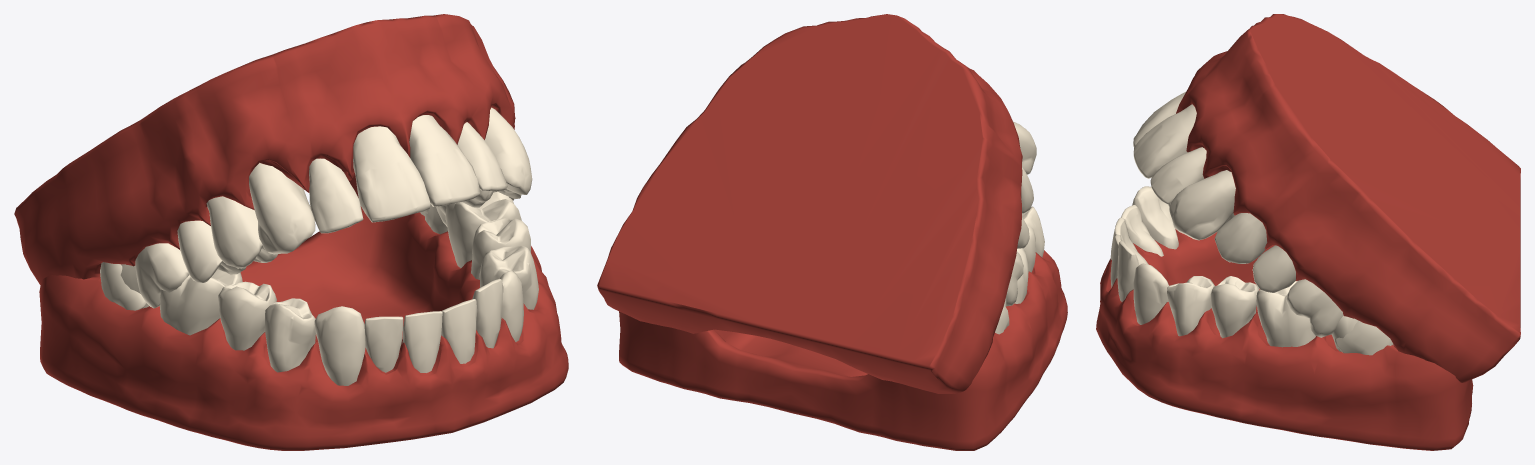
File: mouth-team-b.fbx
The picture shows the model from 3 angles, left to right: view 1: azimuth 30°, elevation 25°; view 2: azimuth 150°, elevation 25°; view 3: azimuth 270°, elevation 25°; orthographic projection. The views are drawn at different scales.
Parts seen in each view (by area): view 1: lowgums, upgums, rcentinc, rcanine, lcentinc, rcaninel, rpremol1, rprem1l, rmolar1l, rlatinc, rprem2l, lmolar1l (+12 smaller); view 2: upgums, lowgums, rcanine, rprem1l, rmolar1; view 3: upgums, lowgums, lcanine, lcentinc, lmolar1l, lprem2l, lpremol1, lmolar1, lprem1l, llatinc, lcaninel, rcaninel (+6 smaller).
Part boxes in pixels (x1,y1,x2,y2): lowgums: [39, 206, 568, 450]; upgums: [14, 14, 515, 284]; rcentinc: [353, 126, 430, 222]; rcanine: [249, 163, 315, 254]; lcentinc: [409, 115, 480, 206]; rcaninel: [314, 306, 365, 385]; rpremol1: [206, 196, 278, 268]; rprem1l: [265, 298, 315, 372]; rmolar1l: [159, 269, 242, 335]; rlatinc: [309, 158, 363, 233]; rprem2l: [218, 281, 276, 350]; lmolar1l: [445, 191, 521, 267]; upgums: [597, 14, 1022, 393]; lowgums: [619, 250, 1067, 450]; rcanine: [1013, 121, 1036, 174]; rprem1l: [1022, 206, 1044, 257]; rmolar1: [1006, 251, 1023, 306]; upgums: [1176, 14, 1520, 382]; lowgums: [1096, 229, 1473, 450]; lcanine: [1169, 170, 1235, 240]; lcentinc: [1133, 104, 1196, 178]; lmolar1l: [1256, 281, 1315, 347]; lprem2l: [1210, 276, 1259, 338]; lpremol1: [1214, 213, 1267, 263]; lmolar1: [1286, 279, 1343, 337]; lprem1l: [1167, 276, 1214, 336]; llatinc: [1150, 147, 1206, 204]; lcaninel: [1133, 263, 1168, 324]; rcaninel: [1132, 186, 1178, 249].
Size of the model in its own units: 0.2614 by 0.219 by 0.2538.
